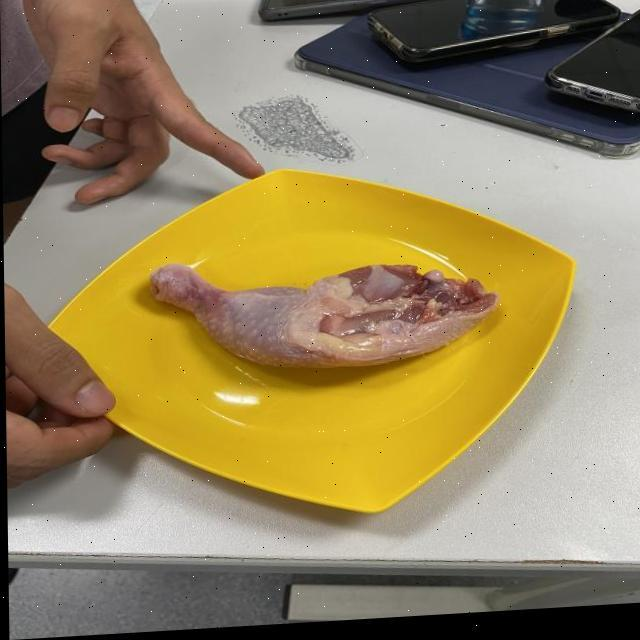quater: (143, 228, 494, 399)
